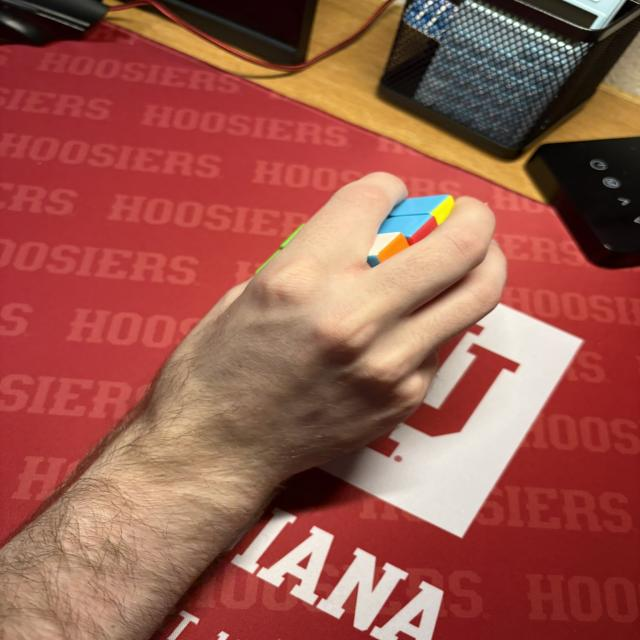Rubiks Cube: (366, 195, 456, 269), (253, 224, 308, 275)
